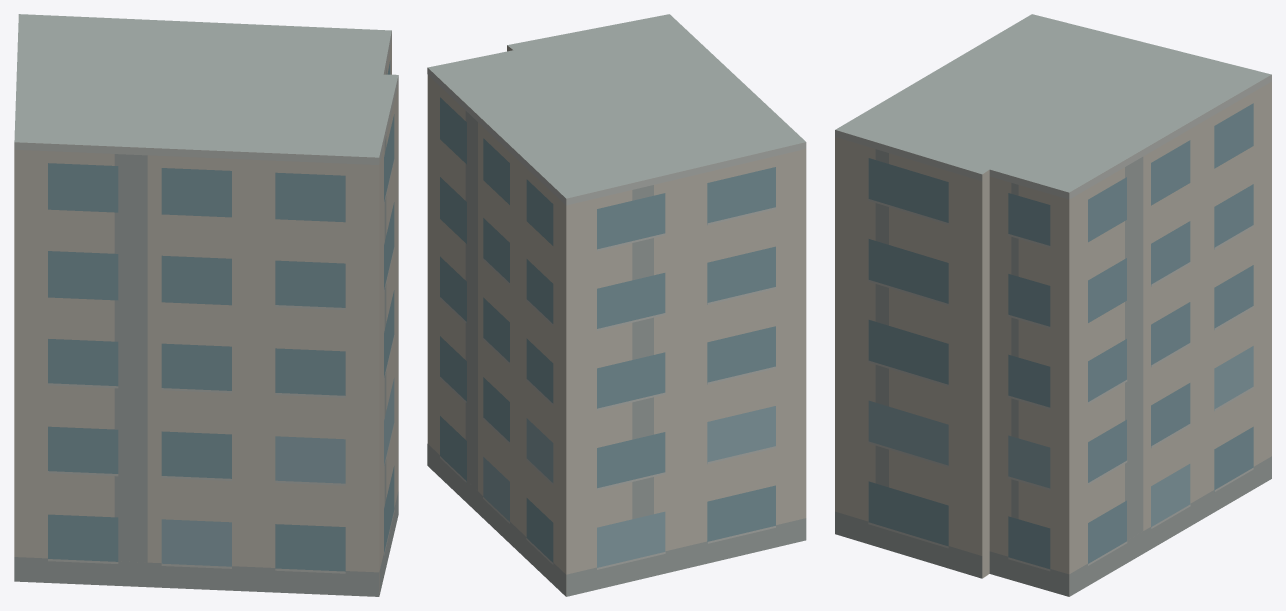
The model's file is survey-upis-32950208.glb.
3 renders of one model, left to right at view 1: azimuth 30°, elevation 25°; view 2: azimuth 150°, elevation 25°; view 3: azimuth 270°, elevation 25°, orthographic. The views are drawn at different scales.
Parts seen in each view (by area): view 1: survey-upis-32950208.tmp; view 2: survey-upis-32950208.tmp; view 3: survey-upis-32950208.tmp.
Part boxes in pixels (<box>): survey-upis-32950208.tmp: <box>14,14,398,596</box>; survey-upis-32950208.tmp: <box>427,14,806,596</box>; survey-upis-32950208.tmp: <box>835,14,1271,596</box>.
Bounding box in the file's own units: 13.46 × 14.2 × 13.91.
